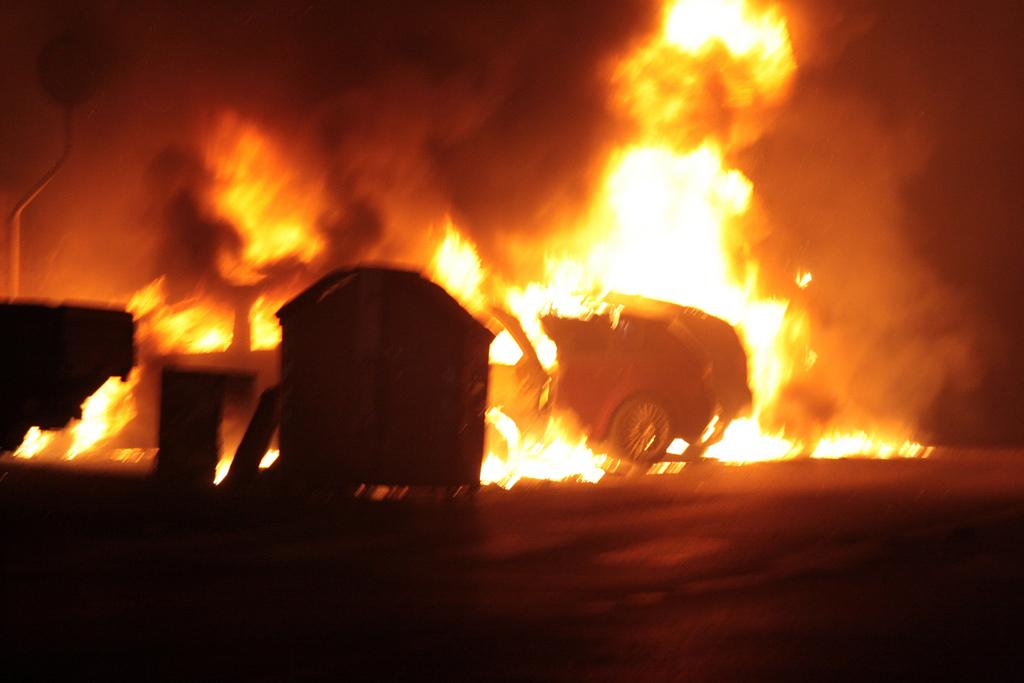fire: (605, 160, 738, 312), (210, 148, 313, 258), (728, 418, 930, 467), (483, 425, 607, 490), (677, 0, 788, 60), (67, 377, 142, 453), (137, 298, 227, 357), (440, 227, 487, 308)
